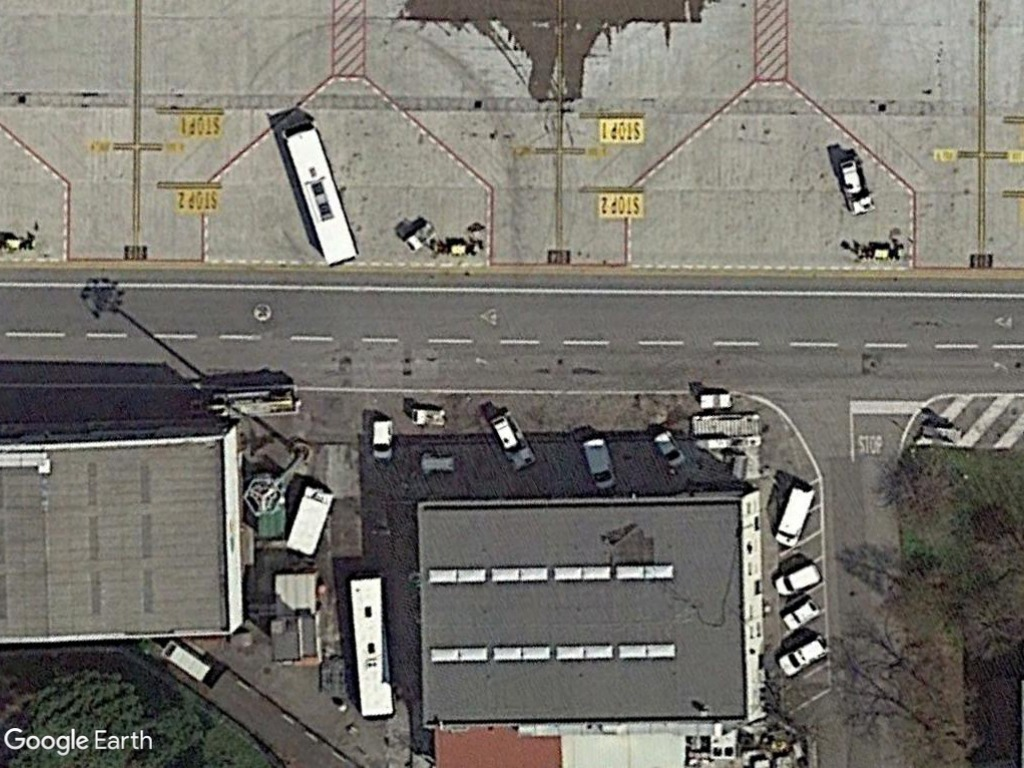bus: (276, 120, 365, 272), (345, 570, 399, 724)
car: (774, 629, 827, 684), (776, 600, 825, 633)
other: (487, 408, 538, 476), (833, 151, 880, 221)
truck: (773, 481, 815, 550)
van: (577, 435, 618, 492), (770, 558, 823, 599), (369, 416, 398, 466)
